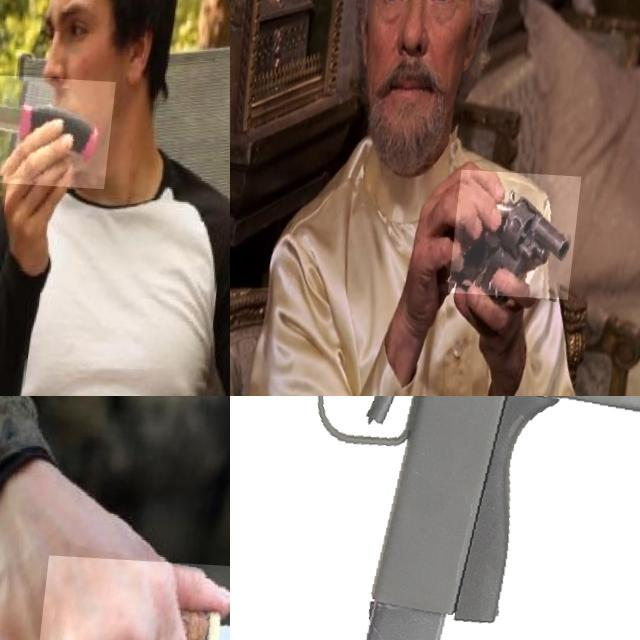-: (33, 553, 230, 640), (0, 68, 120, 183)
gun-knife-thesis - v11 Yolov5 augmented: (230, 396, 640, 640), (459, 165, 590, 292)
